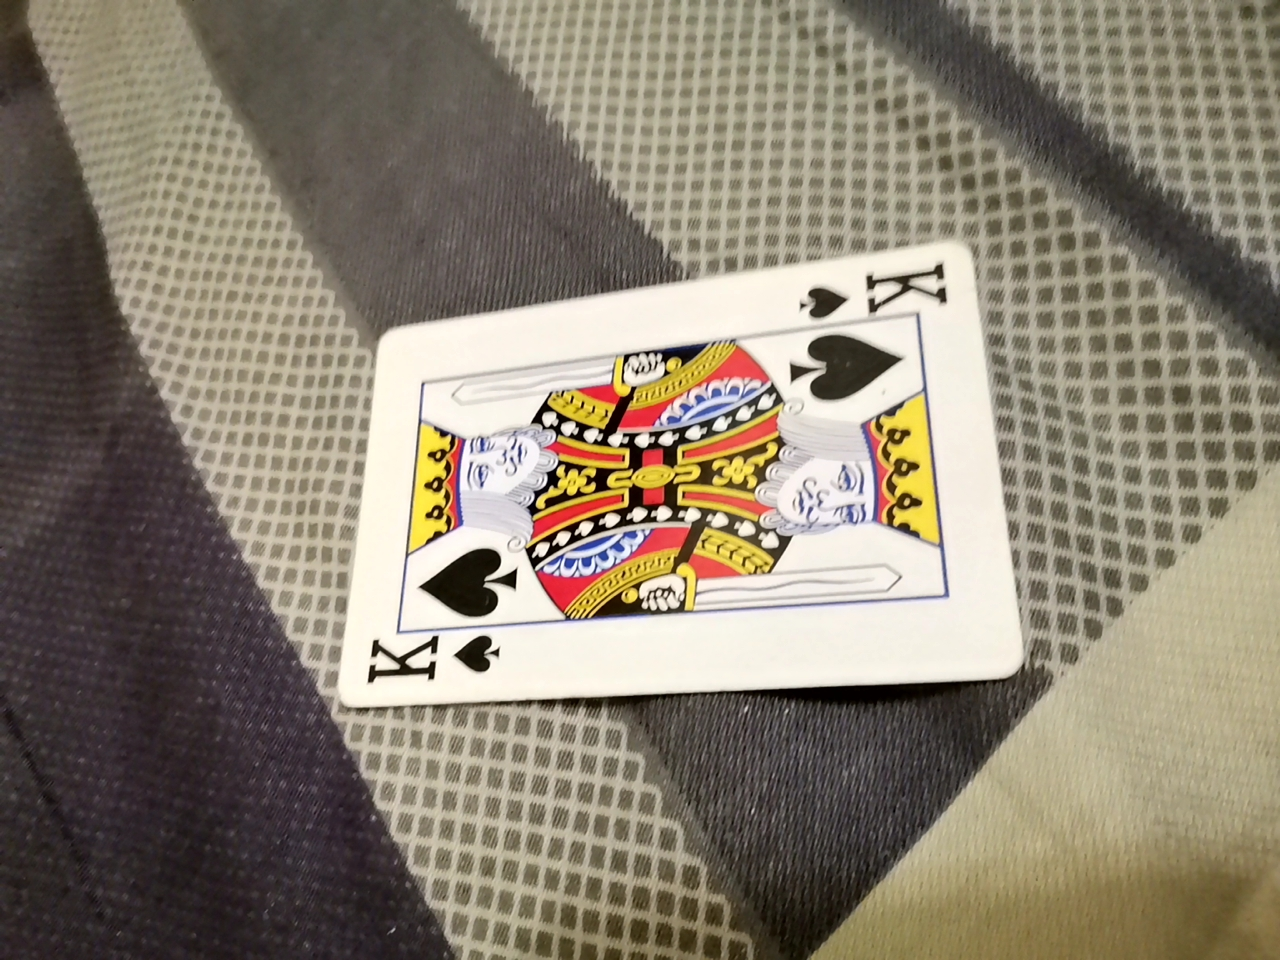ht k: (349, 197, 1013, 679)
